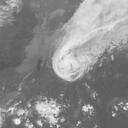cyclone: (51, 37, 101, 83)
